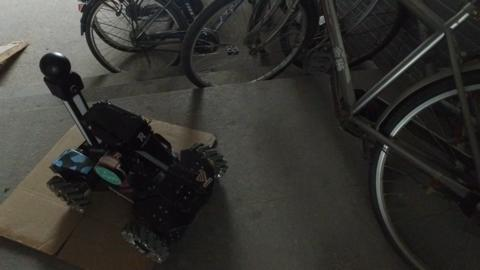chariot: (38, 49, 229, 264)
